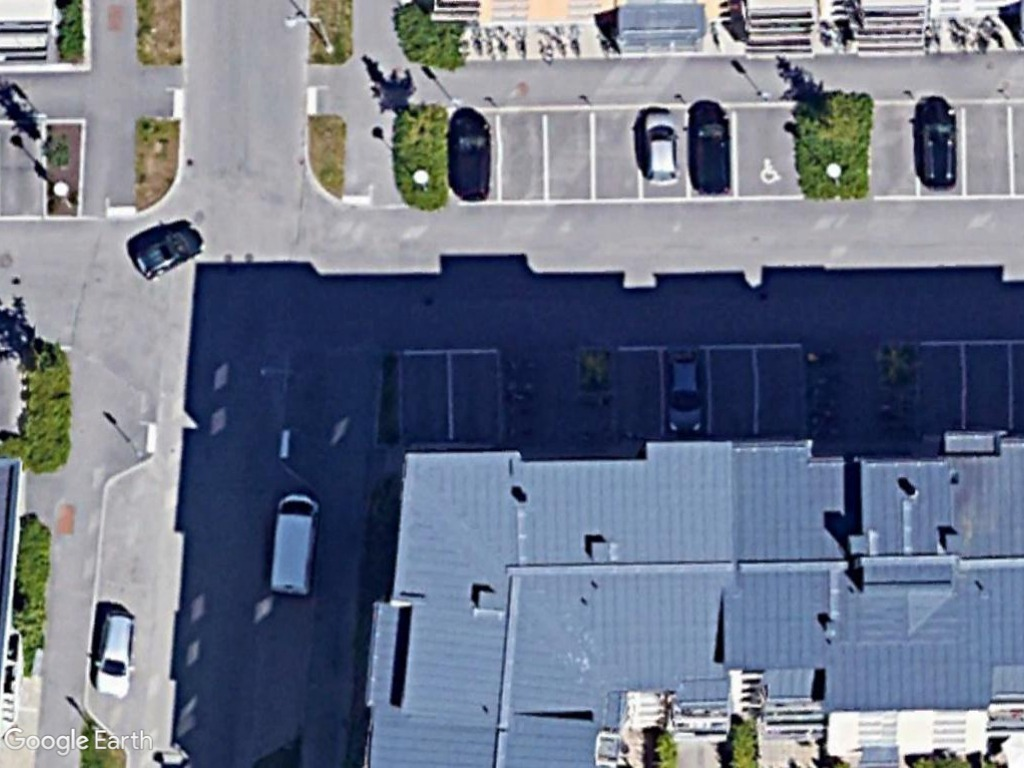car: (84, 598, 144, 704), (907, 90, 963, 196), (678, 98, 738, 196), (441, 104, 497, 207), (658, 338, 712, 442), (126, 217, 207, 286), (633, 101, 685, 192)
van: (259, 484, 321, 606)
